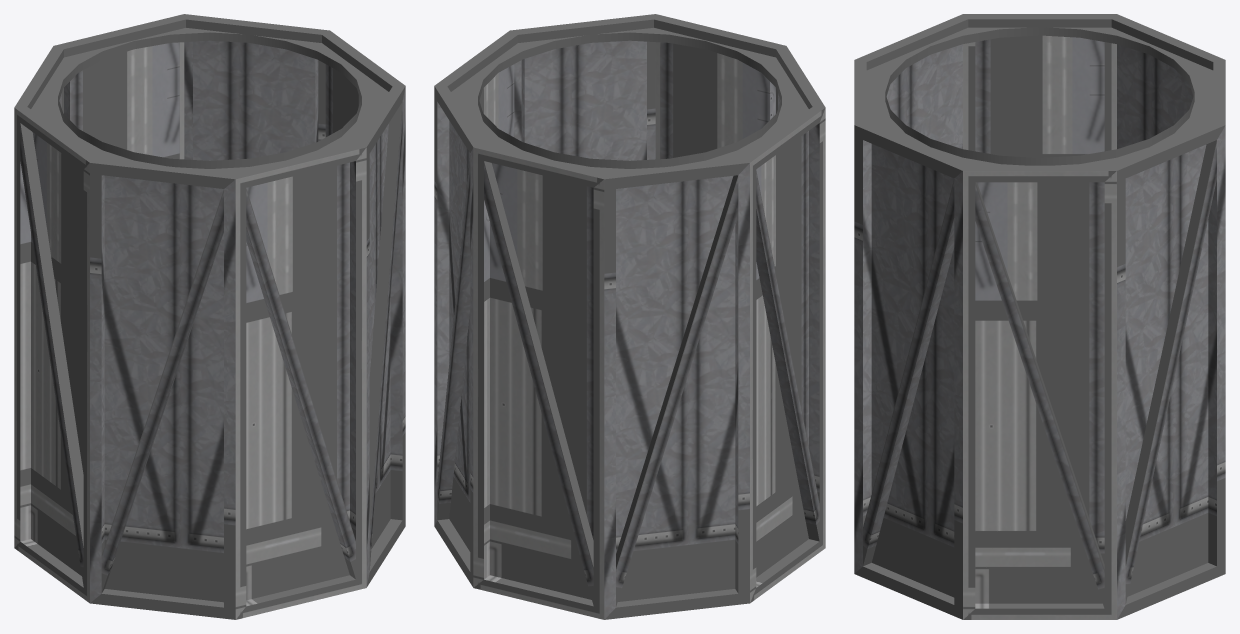
Rendered from nashira_truss_s1_1.obj.
The picture shows the model from 3 angles, left to right: view 1: azimuth 30°, elevation 25°; view 2: azimuth 150°, elevation 25°; view 3: azimuth 270°, elevation 25°; orthographic projection.
Visible parts, largest first — view 1: mesh1; view 2: mesh1; view 3: mesh1.
Boxes of the visible parts, bbox=[...] form: mesh1: bbox=[14, 14, 405, 619]; mesh1: bbox=[434, 14, 825, 619]; mesh1: bbox=[854, 14, 1225, 619].
Size of the model in its own units: 1.5 by 2 by 1.5.
1 material, 1 textured.
